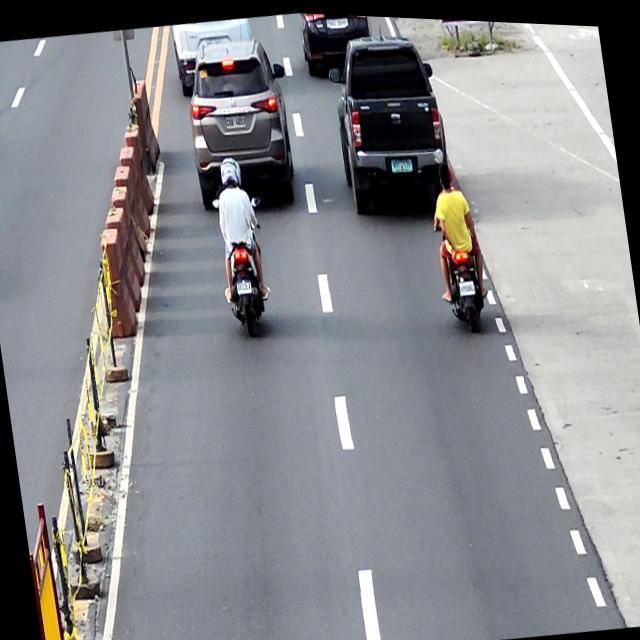Car: (324, 21, 455, 215), (178, 23, 303, 213), (298, 10, 376, 76)
License-Plate: (390, 152, 414, 172), (225, 111, 248, 130), (326, 12, 350, 28), (458, 274, 476, 293), (236, 277, 253, 294)
Motorcycle: (211, 189, 279, 339), (432, 213, 490, 333)
